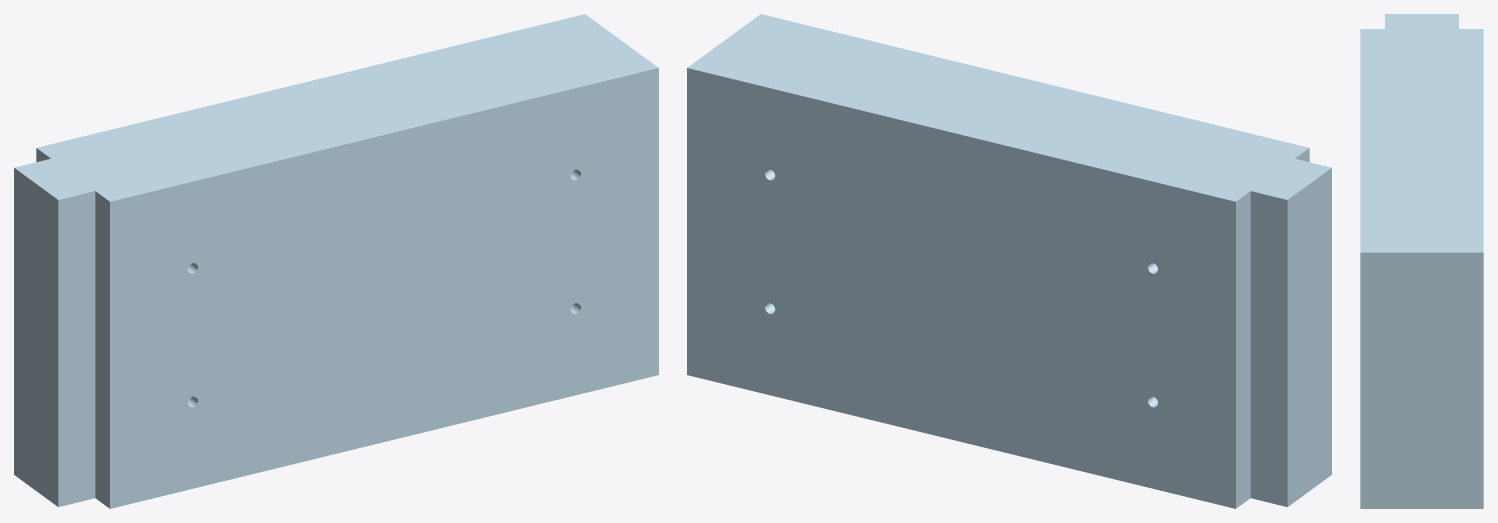
The picture shows the model from 3 angles, left to right: view 1: azimuth 30°, elevation 25°; view 2: azimuth 150°, elevation 25°; view 3: azimuth 270°, elevation 25°; orthographic projection. The views are drawn at different scales.
Parts seen in each view (by area): view 1: mesh7415, mesh7403, mesh7406, mesh7407, mesh7405; view 2: mesh7416, mesh7403, mesh7406, mesh7408, mesh7402; view 3: mesh7404, mesh7403.
Part boxes in pixels (bbox=[...]): mesh7415: bbox=[110, 68, 658, 508]; mesh7403: bbox=[14, 14, 658, 201]; mesh7406: bbox=[14, 168, 58, 506]; mesh7407: bbox=[58, 191, 95, 506]; mesh7405: bbox=[95, 191, 109, 508]; mesh7416: bbox=[687, 68, 1235, 508]; mesh7403: bbox=[687, 14, 1331, 201]; mesh7406: bbox=[1287, 168, 1331, 506]; mesh7408: bbox=[1250, 191, 1287, 506]; mesh7402: bbox=[1236, 191, 1250, 508]; mesh7404: bbox=[1360, 252, 1483, 508]; mesh7403: bbox=[1360, 14, 1483, 252].
Size of the model in its own units: 0.2295 by 0.115 by 0.05.
